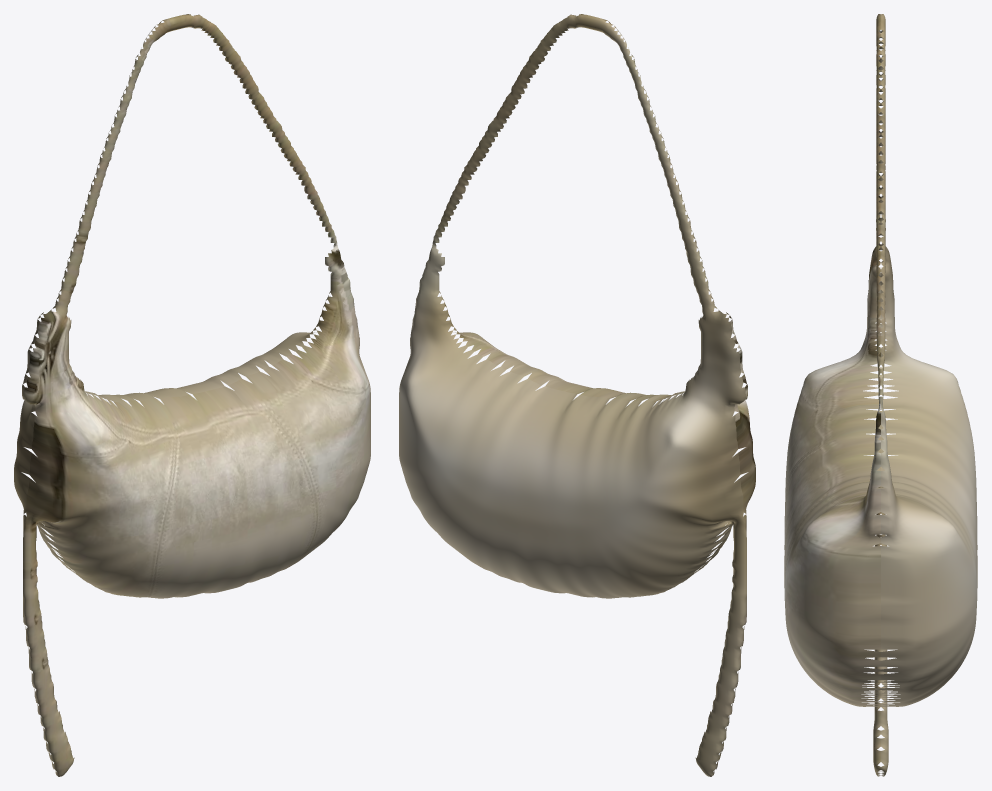
The model's file is musa-gold.glb.
The picture shows the model from 3 angles, left to right: view 1: azimuth 30°, elevation 25°; view 2: azimuth 150°, elevation 25°; view 3: azimuth 270°, elevation 25°; orthographic projection. The views are drawn at different scales.
Visible parts, largest first — view 1: musa-gold; view 2: musa-gold; view 3: musa-gold.
Part boxes in pixels (box(x1,y1,x2,y2)): musa-gold: box(14, 14, 370, 776); musa-gold: box(399, 14, 755, 776); musa-gold: box(784, 14, 977, 776).
Size of the model in its own units: 0.3092 by 0.646 by 0.1377.
Materials: 2 (2 with a texture image).
